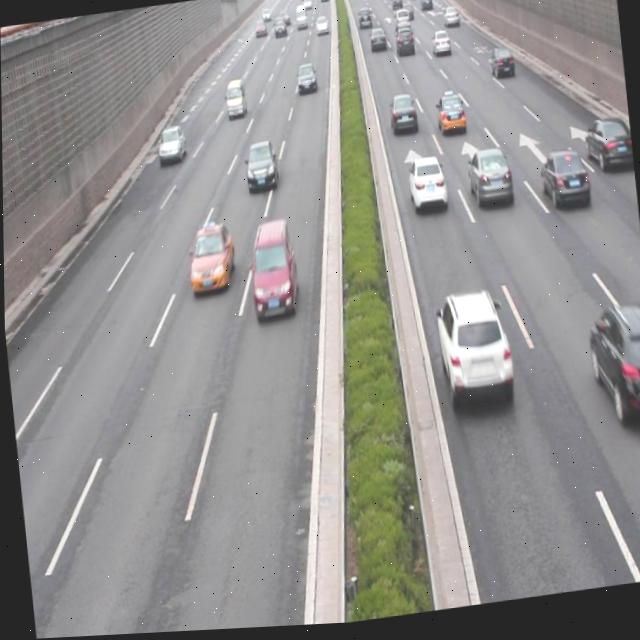car: (432, 289, 512, 414), (582, 305, 640, 435), (183, 221, 237, 296), (536, 152, 590, 218), (580, 119, 633, 179), (464, 149, 512, 215), (405, 157, 447, 218), (240, 142, 278, 196), (433, 93, 466, 141), (386, 94, 418, 140), (156, 124, 187, 167), (486, 48, 515, 87), (294, 63, 317, 100)
truck: (243, 219, 299, 322), (223, 80, 248, 123)
